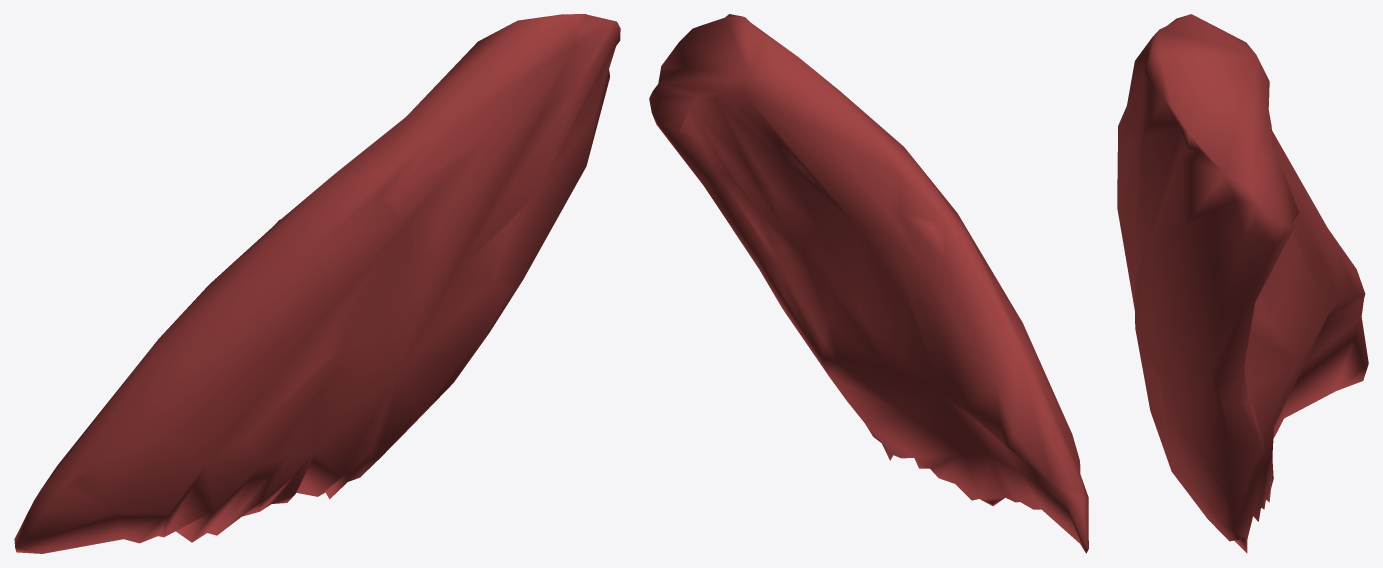
The model's file is rectus-anterior-capitis-muscle-r.glb.
3 renders of one model, left to right at view 1: azimuth 30°, elevation 25°; view 2: azimuth 150°, elevation 25°; view 3: azimuth 270°, elevation 25°, orthographic. The views are drawn at different scales.
Parts seen in each view (by area): view 1: Rectus anterior capitis muscle.r; view 2: Rectus anterior capitis muscle.r; view 3: Rectus anterior capitis muscle.r.
Part boxes in pixels (box(x1,y1,x2,y2)): Rectus anterior capitis muscle.r: box(14, 14, 620, 553); Rectus anterior capitis muscle.r: box(649, 14, 1088, 553); Rectus anterior capitis muscle.r: box(1117, 14, 1368, 553).
Size of the model in its own units: 0.025 by 0.0204 by 0.00669.
